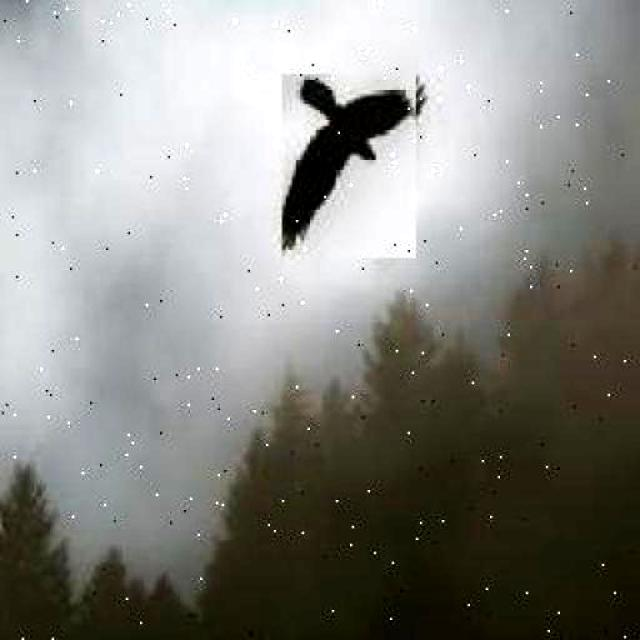airplane: (282, 75, 416, 259)
